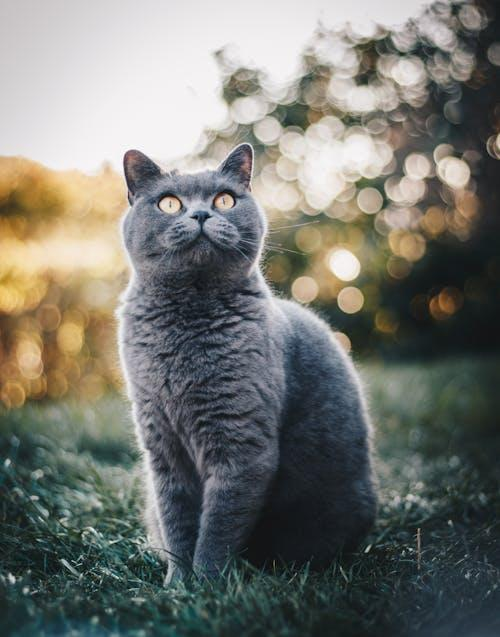kedo: (123, 150, 376, 576)
